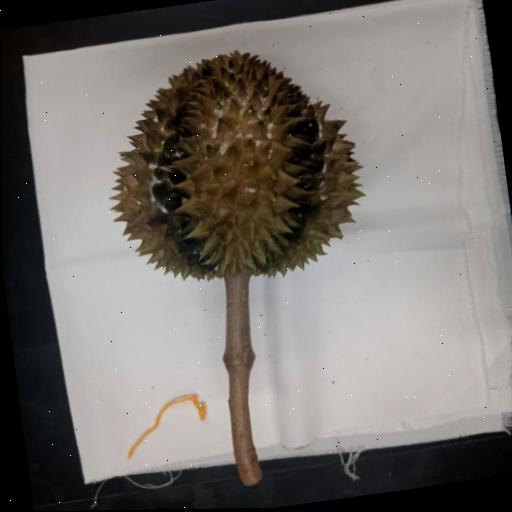mold: (49, 14, 382, 321)
